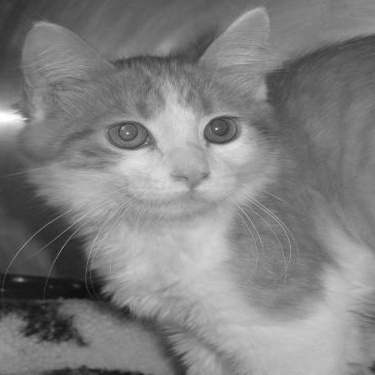cat: (9, 6, 366, 367)
